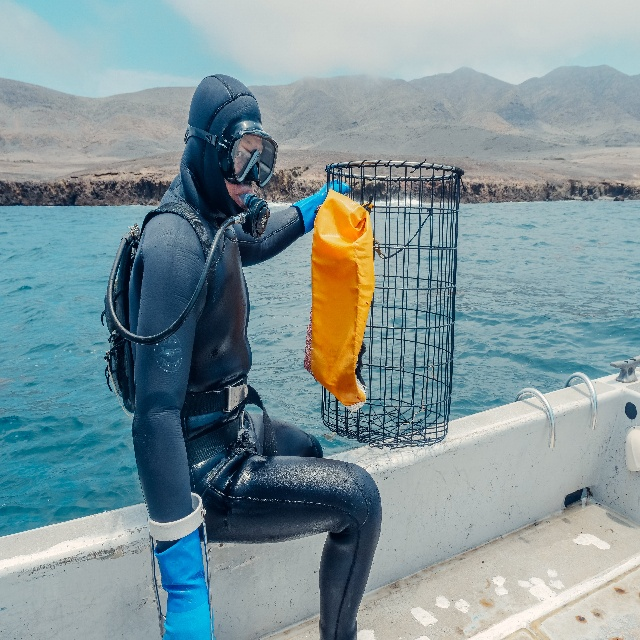Guantes: (154, 541, 214, 637), (291, 180, 350, 226)
